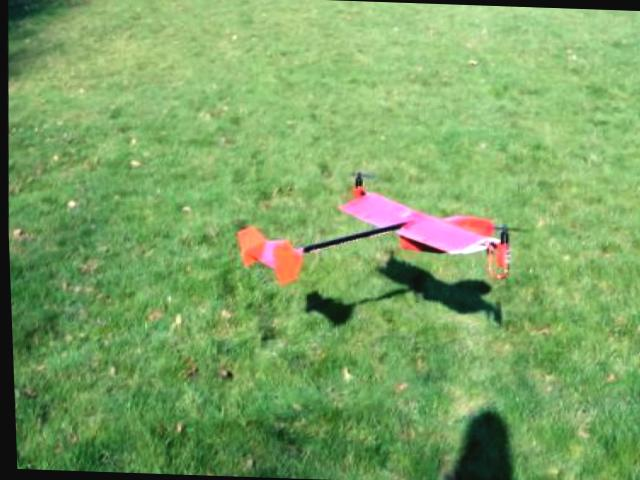uav: (222, 154, 534, 316)
